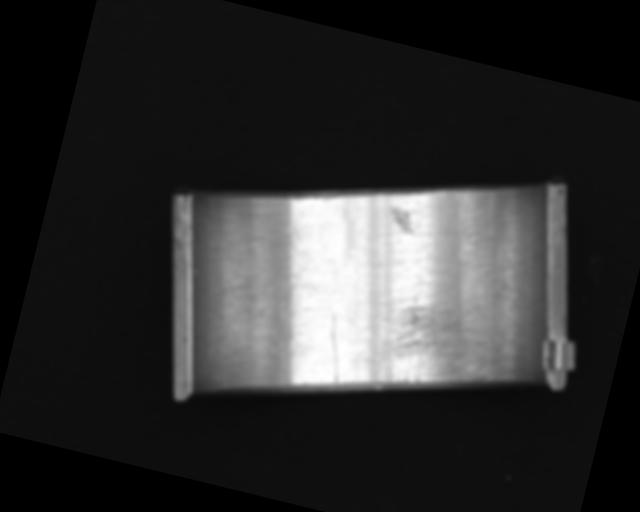bruise: (386, 206, 419, 234)
nick: (188, 195, 258, 299), (315, 314, 353, 383)
scratch: (365, 287, 508, 413)
